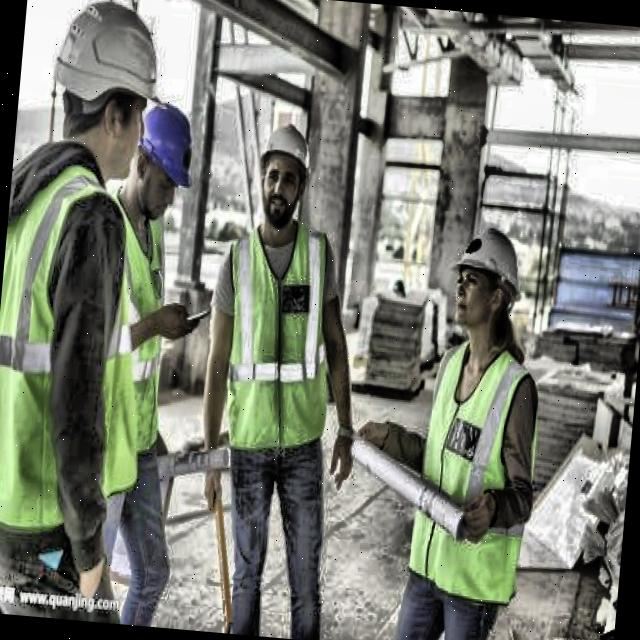helmet: (39, 0, 165, 188), (444, 213, 532, 346), (127, 95, 202, 227), (250, 110, 320, 236)
